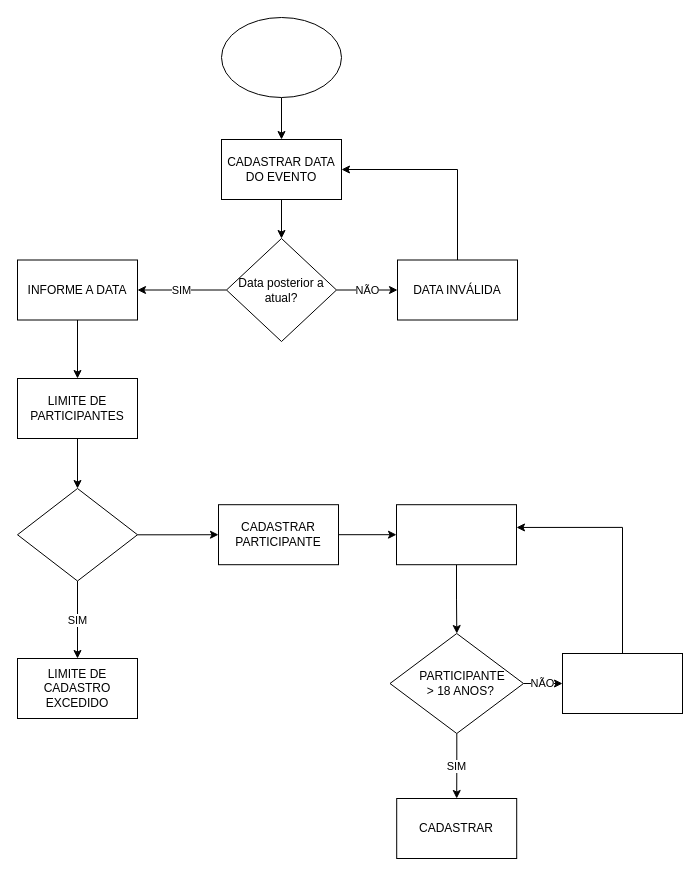
This 700x876 diagram has some shape labels left out. The centre of each missing label's shape, as x and y in pixels:
"CADASTRO NÃO PERMITIDO" goes at point 622,683.
"INFORME DATA DE NASCIMENTO" goes at point 456,534.
"INICIO" goes at point 281,57.
"QUANTIDADE > 99?" goes at point 77,534.
